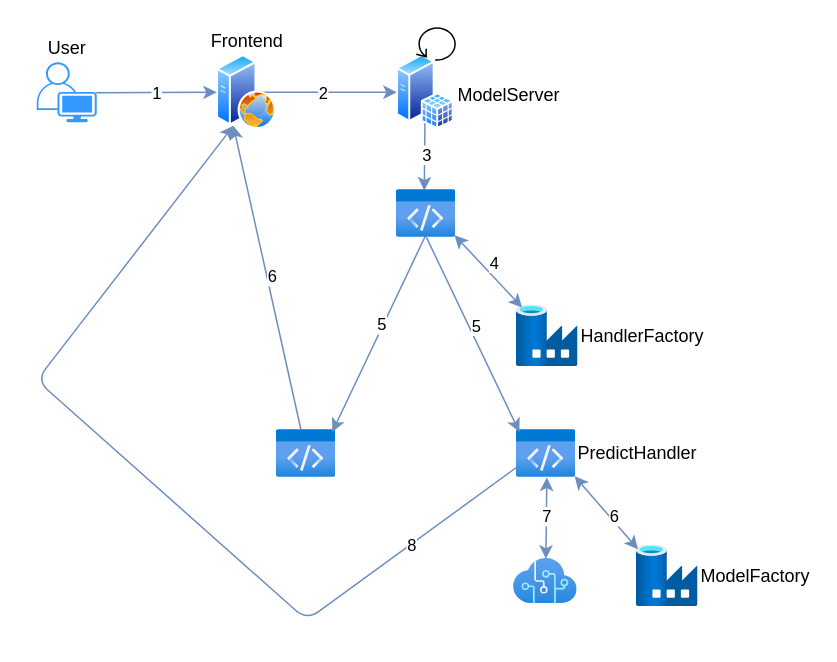
This 837x662 diagram has some shape labels left out. The shapes that lost their labels are listed below. From the top down, each one's box as (x1, y1, x2, y2) in pixels, then its label:
(396, 189, 455, 237): HandlerThread
(276, 429, 335, 477): ReadHandler
(513, 558, 577, 603): Model
